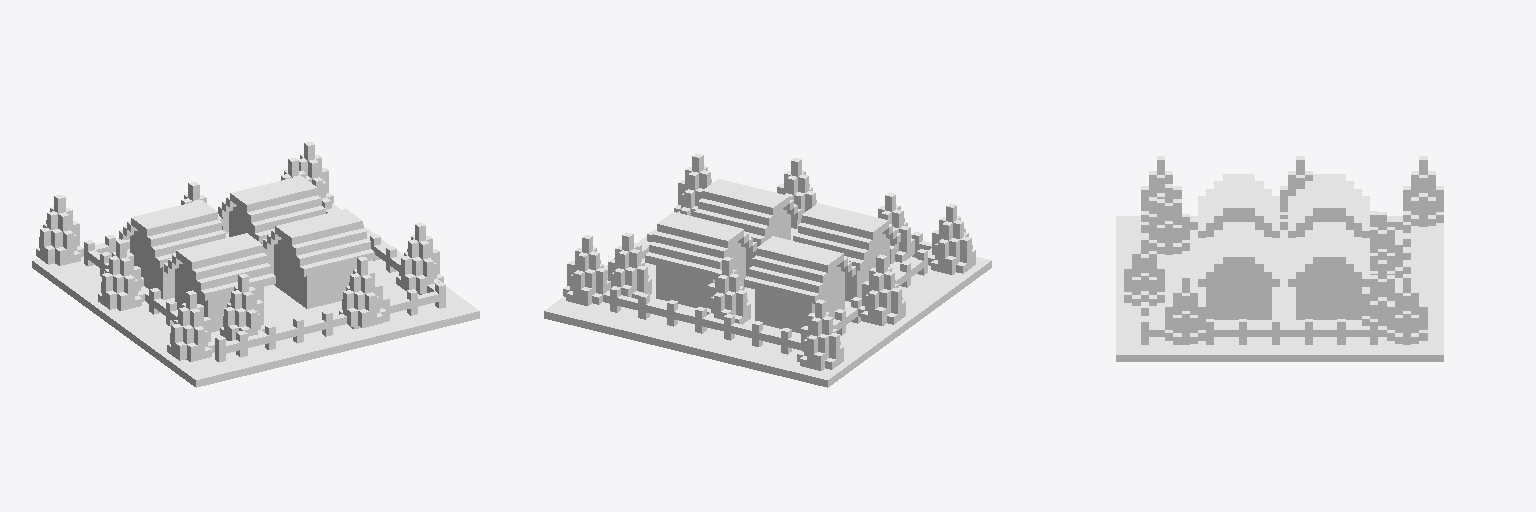
Rendered from village.obj.
3 renders of one model, left to right at view 1: azimuth 30°, elevation 25°; view 2: azimuth 150°, elevation 25°; view 3: azimuth 270°, elevation 25°, orthographic.
Parts seen in each view (by area): view 1: object 1; view 2: object 1; view 3: object 1.
Boxes of the visible parts, x1,y1,x2,y2 form: object 1: [32, 142, 479, 387]; object 1: [544, 153, 991, 387]; object 1: [1116, 156, 1443, 361].
Size of the model in its own units: 4 by 1 by 4.